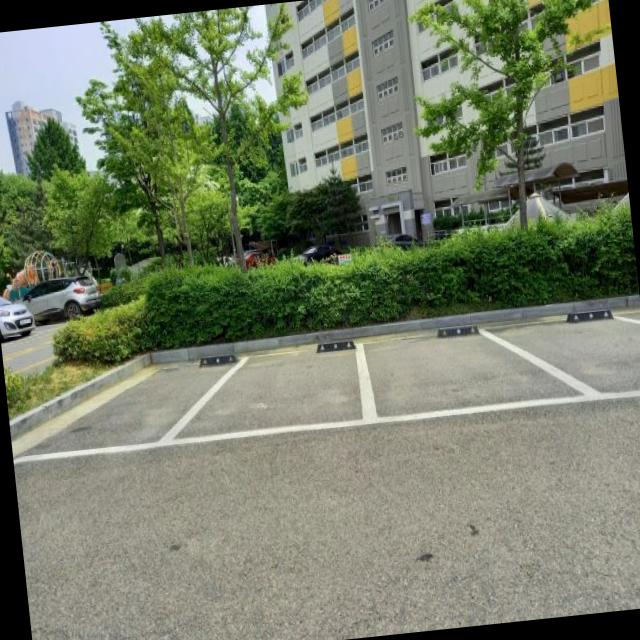free: (357, 316, 593, 422), (167, 336, 370, 451), (22, 350, 250, 452), (479, 305, 640, 396)
